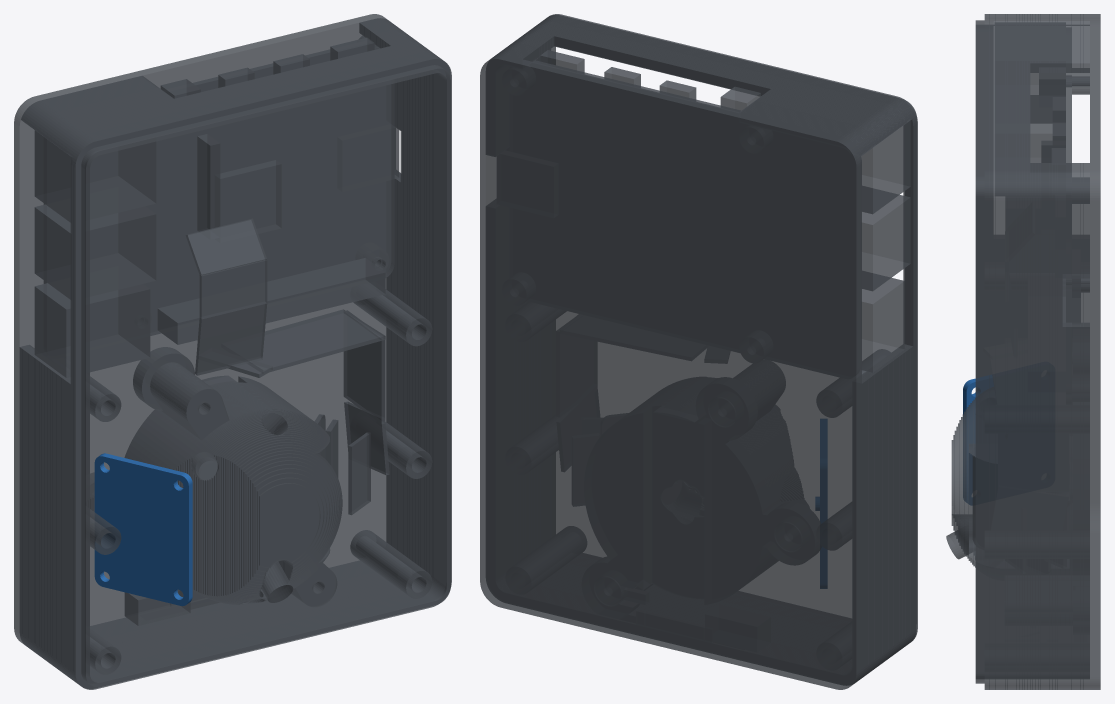
The model's file is step6.glb.
3 views of the same model, side by side, from view 1: azimuth 30°, elevation 25°; view 2: azimuth 150°, elevation 25°; view 3: azimuth 270°, elevation 25° (orthographic). The views are drawn at different scales.
Visible parts, largest first — view 1: shell_lower, mock_pi4b, optical_head, mock_csi_ribbon, mock_as7341, mock_switch, mock_laser, mock_camera; view 2: shell_lower, mock_pi4b, optical_head, mock_csi_ribbon, mock_switch, mock_camera, mock_as7341; view 3: shell_lower, mock_pi4b, optical_head, mock_csi_ribbon, mock_camera, mock_as7341, mock_laser.
Part boxes in pixels (x1,y1,x2,y2): shell_lower: (14,14,451,689); mock_pi4b: (34,37,399,377); optical_head: (86,347,342,607); mock_csi_ribbon: (186,218,389,515); mock_as7341: (94,453,192,606); mock_switch: (124,589,190,625); mock_laser: (262,561,293,602); mock_camera: (314,414,338,479); shell_lower: (480,14,917,689); mock_pi4b: (497,50,910,378); optical_head: (582,360,821,618); mock_csi_ribbon: (556,314,729,471); mock_switch: (705,605,770,651); mock_camera: (572,413,681,505); mock_as7341: (816,419,826,588); shell_lower: (975,14,1100,689); mock_pi4b: (996,23,1080,404); optical_head: (951,329,1089,634); mock_csi_ribbon: (984,203,1068,573); mock_camera: (972,448,1066,574); mock_as7341: (963,375,993,504); mock_laser: (946,523,974,559).
Bounding box in the file's own units: 92 × 128 × 34.61.
